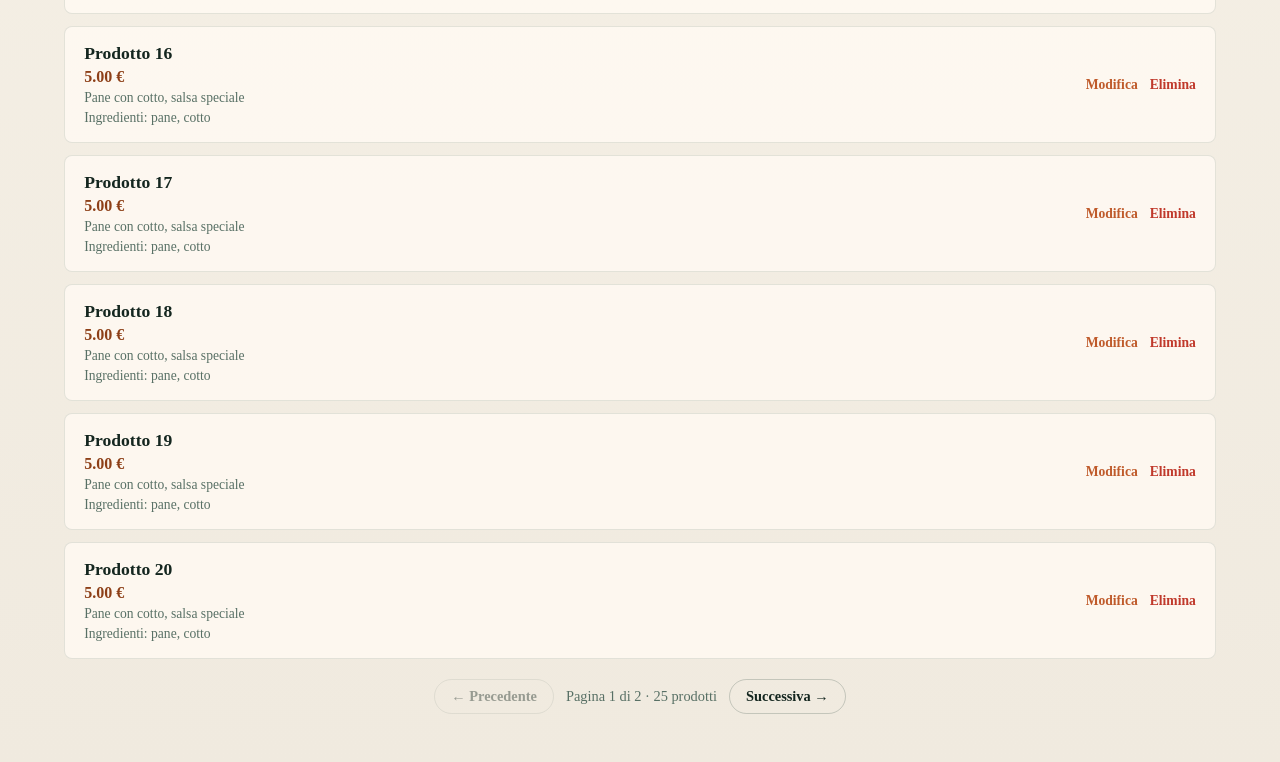
Test: catalogo prodotti — paginazione › mostra una pagina alla volta e il conteggio, e si sposta per pagina
(page scrolled)
Expected: the text "Pagina 1 di 2 · 25 prodotti" is shown, [566,688,717,705]
Expected: the text "Prodotto 21" is not shown
Click the button "Successiva →": {"x": 787, "y": 696} [729,679,846,714]
(page scrolled)
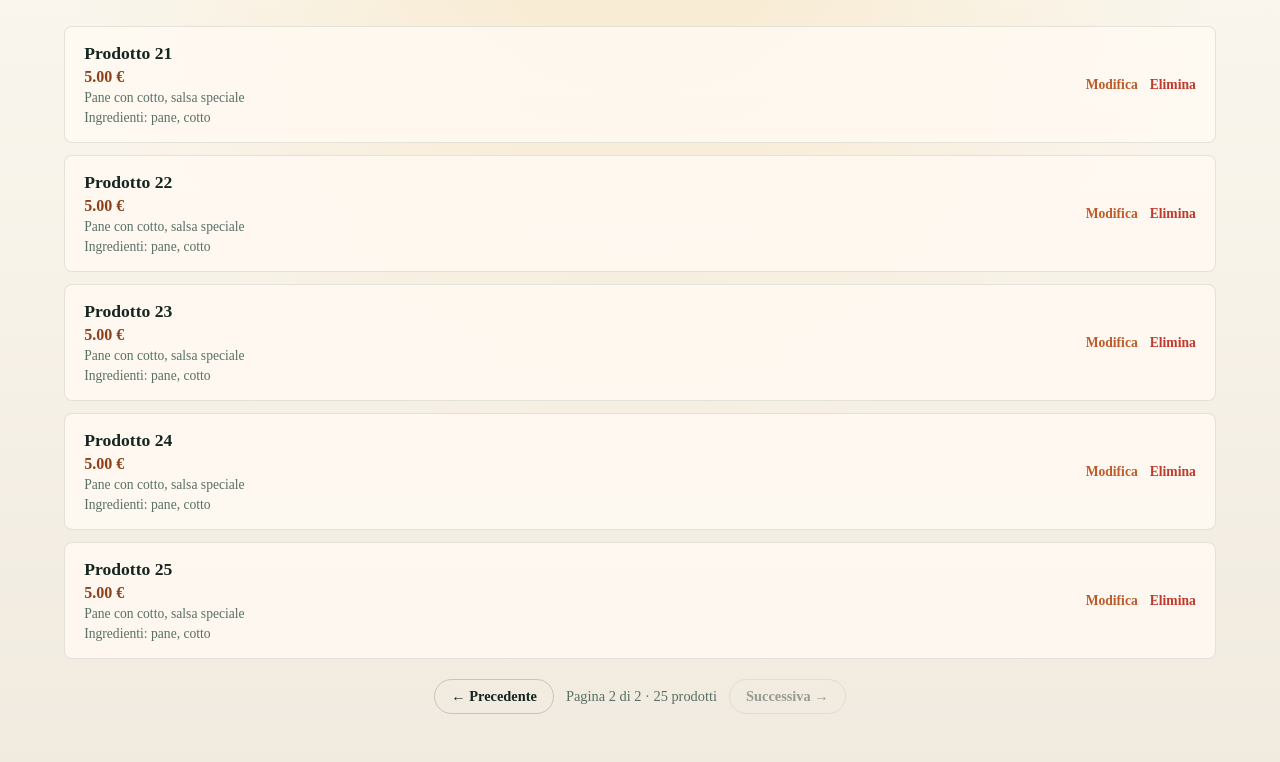
Now the text "Prodotto 21" is shown, box [84,43,172,63]
Now the text "Pagina 2 di 2 · 25 prodotti" is shown, box [566,688,717,705]
Now the button "Successiva →" is disabled, box [729,679,846,714]
